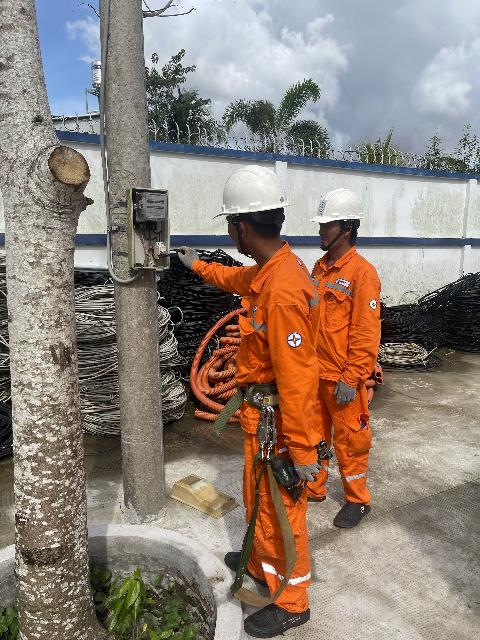gloves: (286, 456, 333, 487), (176, 232, 204, 275), (328, 378, 360, 412)
harness: (221, 375, 299, 426)
helmet: (210, 168, 297, 217), (304, 186, 374, 231)
shoes: (235, 598, 324, 640), (212, 538, 276, 588), (328, 498, 378, 532), (298, 483, 333, 508)
